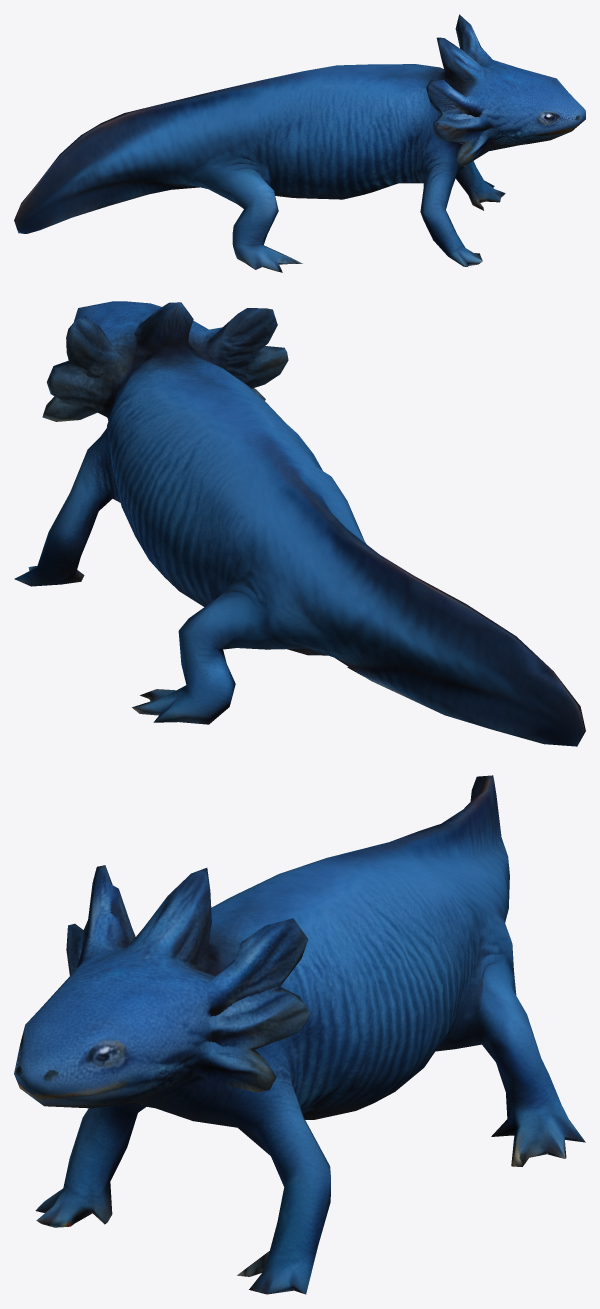
The model's file is axolotl_blue_single_1500.glb.
3 views of the same model, one above another, from view 1: azimuth 30°, elevation 25°; view 2: azimuth 150°, elevation 25°; view 3: azimuth 270°, elevation 25° (orthographic). The views are drawn at different scales.
Bounding box in the file's own units: 0.8476 × 0.3552 × 0.4973.
1 material, 1 textured.
